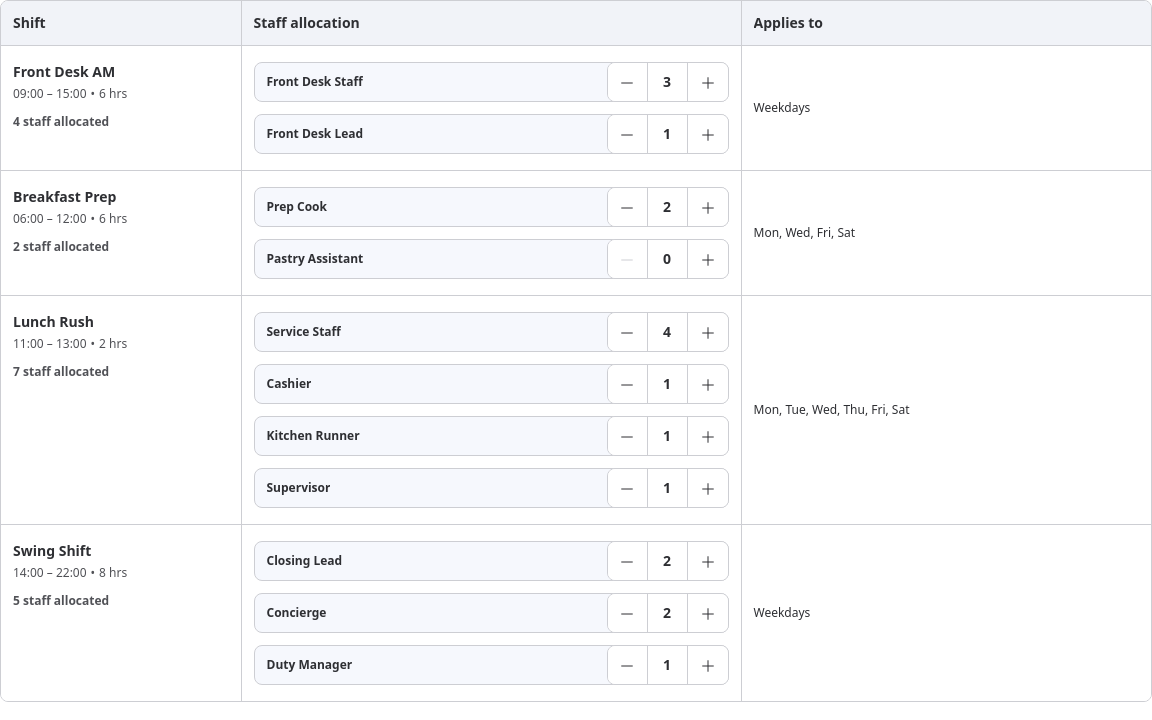
Test case: ShiftAllocationTable › given_aShift_when_aRoleIsRaised_then_theTotalFollows
Expected: the row "Breakfast Prep" shows "2 staff allocated", [13,238,109,254]
Click the button named "More Pastry Assistant" at (708, 260), box [688,240,728,280]
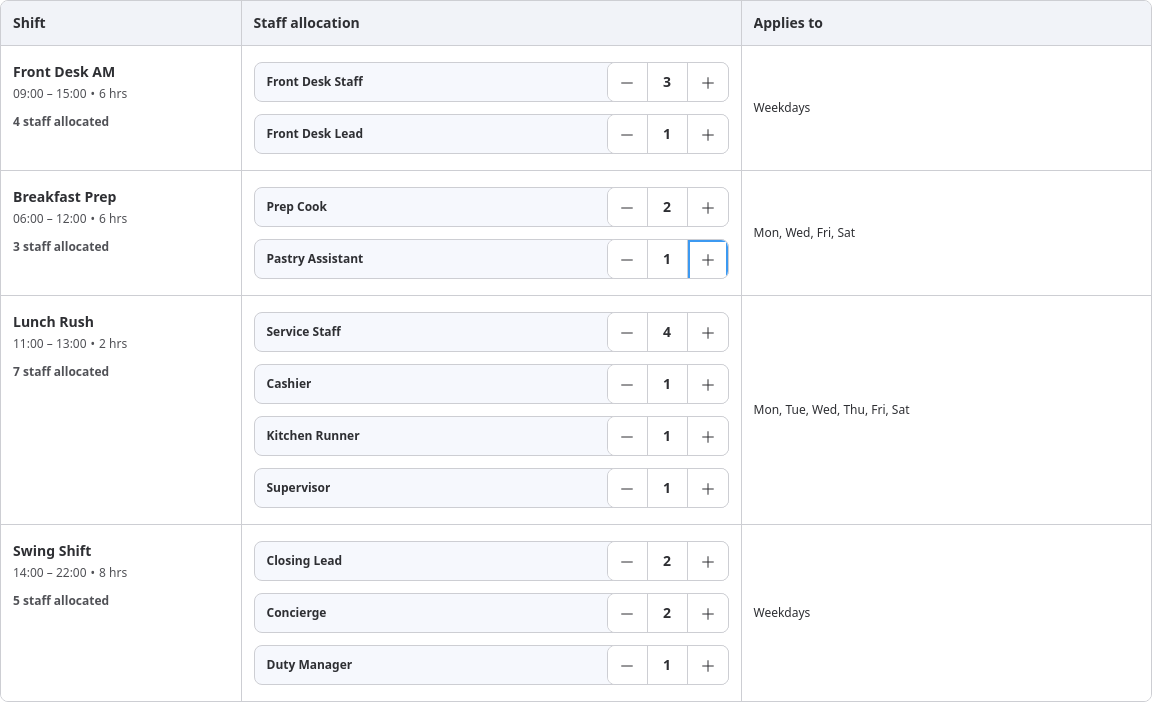
Expected: the row "Breakfast Prep" shows "3 staff allocated", [13,238,109,254]
